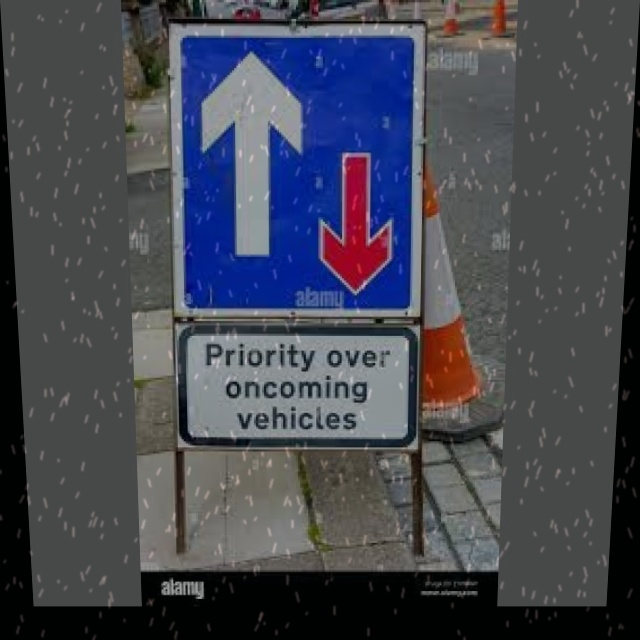Priority_for_Oncoming_Traffic: (180, 34, 417, 311)
